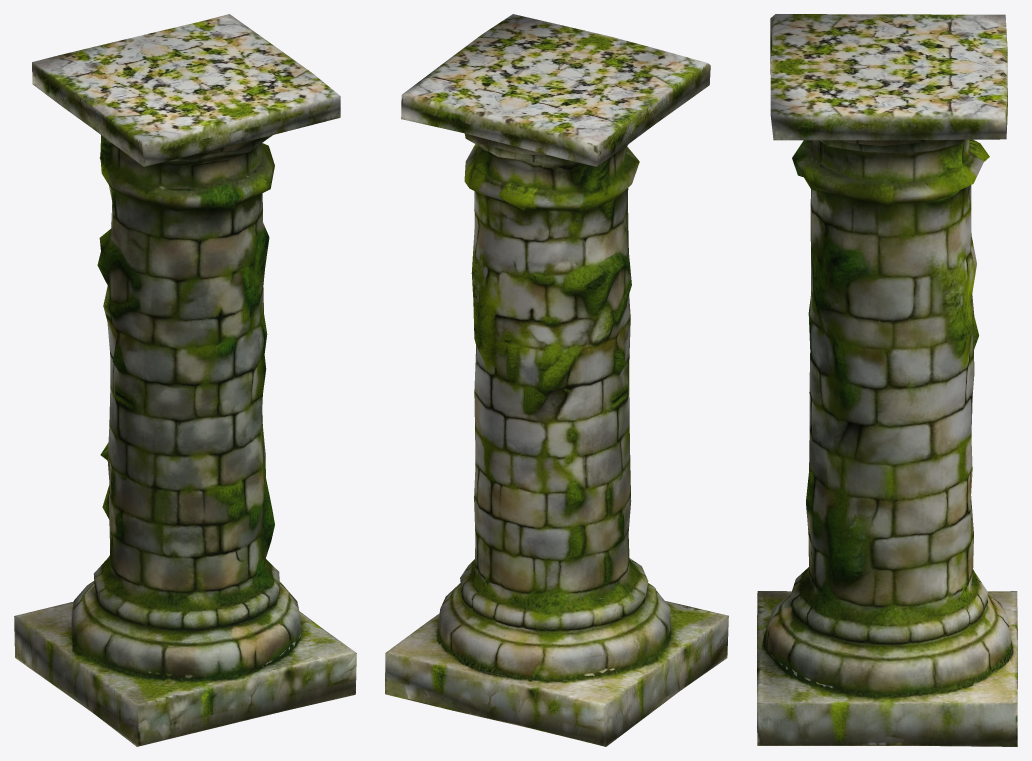
The model's file is env_pillar.glb.
The picture shows the model from 3 angles, left to right: view 1: azimuth 30°, elevation 25°; view 2: azimuth 150°, elevation 25°; view 3: azimuth 270°, elevation 25°; orthographic projection. The views are drawn at different scales.
Bounding box in the file's own units: 0.7762 × 2.01 × 0.7587.
Materials: 1 (1 with a texture image).
